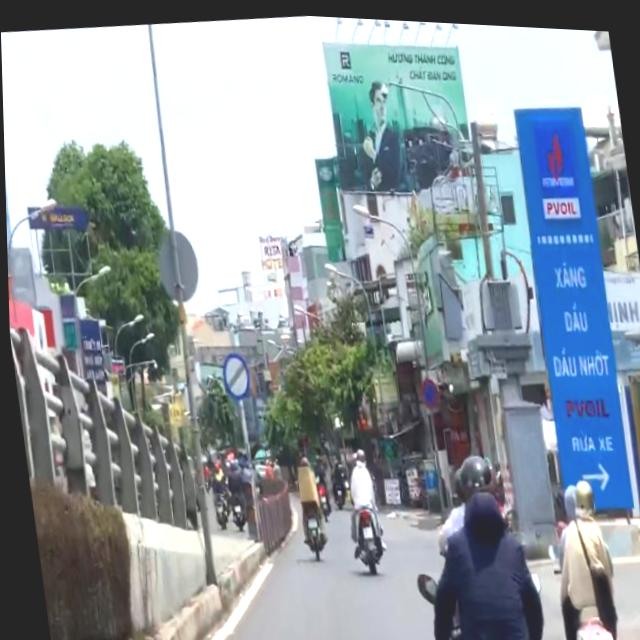Cam do xe: (417, 373, 438, 405)
